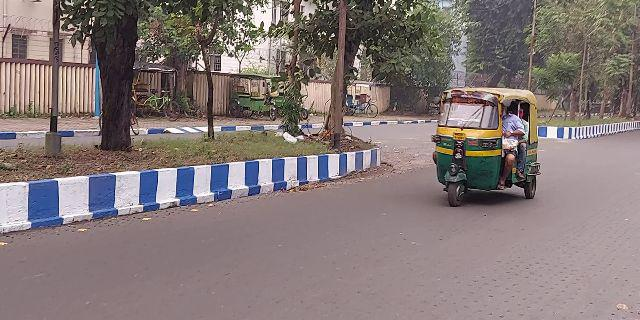Autorickshaw: (429, 85, 547, 203)
